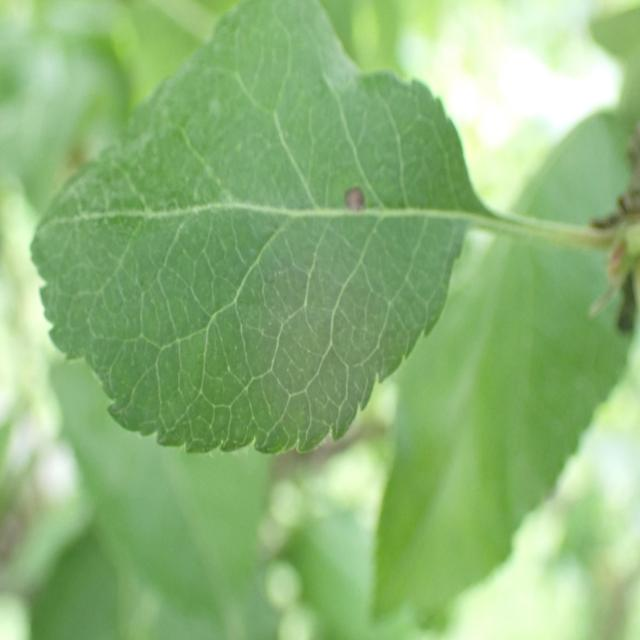Black Rot: (338, 169, 373, 239)
